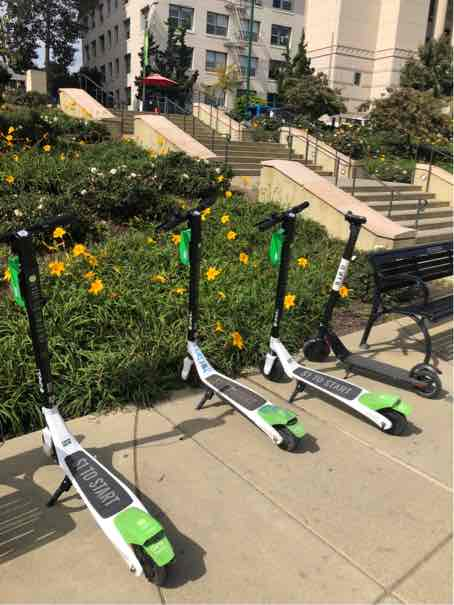scooter: (8, 218, 189, 598), (146, 192, 311, 445), (243, 192, 410, 431)
